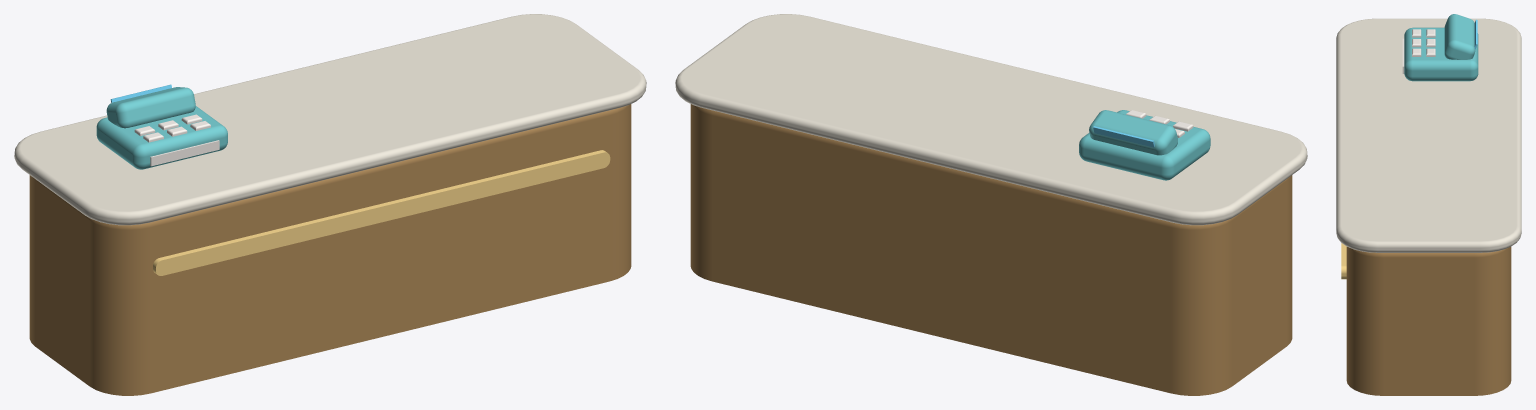
The model's file is Counter.glb.
3 renders of one model, left to right at view 1: azimuth 30°, elevation 25°; view 2: azimuth 150°, elevation 25°; view 3: azimuth 270°, elevation 25°, orthographic. The views are drawn at different scales.
Visible parts, largest first — view 1: counterBase, counterTop, counterTrim, registerBody (×2), registerKeys; view 2: counterBase, counterTop, registerBody (×2); view 3: counterTop, counterBase, registerBody (×2), counterTrim.
Part boxes in pixels (<box>): counterBase: <box>29,104,631,395</box>; counterTop: <box>14,14,646,225</box>; counterTrim: <box>153,150,610,275</box>; registerBody (×2): <box>96,87,227,169</box>; registerKeys: <box>150,140,219,166</box>; counterBase: <box>690,104,1292,395</box>; counterTop: <box>675,14,1307,225</box>; registerBody (×2): <box>1079,110,1210,180</box>; counterTop: <box>1336,18,1521,252</box>; counterBase: <box>1346,247,1511,395</box>; registerBody (×2): <box>1404,14,1478,81</box>; counterTrim: <box>1341,243,1346,279</box>.
Size of the model in its own units: 2.6 by 1.04 by 0.9.
